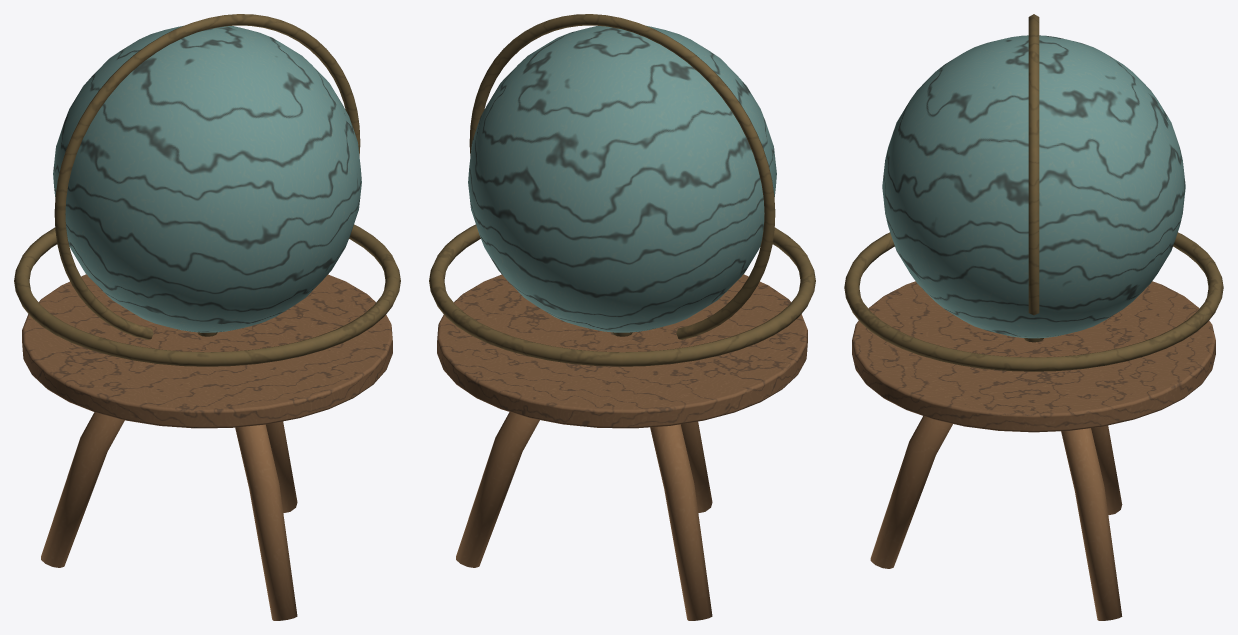
File: globo.glb
3 renders of one model, left to right at view 1: azimuth 30°, elevation 25°; view 2: azimuth 150°, elevation 25°; view 3: azimuth 270°, elevation 25°, orthographic.
Parts seen in each view (by area): view 1: globo; view 2: globo; view 3: globo.
Part boxes in pixels (box(x1,y1,x2,y2)): globo: box(14, 14, 400, 620); globo: box(429, 14, 815, 620); globo: box(844, 14, 1223, 620).
Bounding box in the file's own units: 0.75 × 1.17 × 0.75.
1 material, 1 textured.
